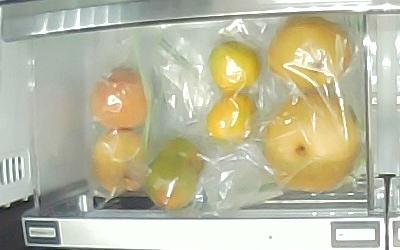peach_vinyl: (90, 67, 148, 132), (93, 129, 150, 193)
pear_vinyl: (263, 94, 362, 194), (269, 18, 352, 90)
tangerine_vinyl: (207, 94, 260, 144), (211, 42, 261, 94)
tomato_vinyl: (145, 154, 198, 210), (158, 138, 204, 176)
